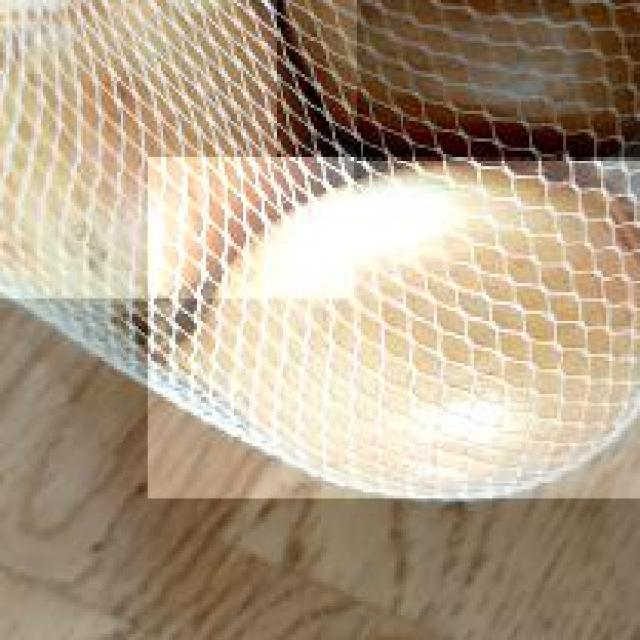onion: (147, 156, 640, 498), (0, 0, 357, 298), (277, 0, 640, 157)
